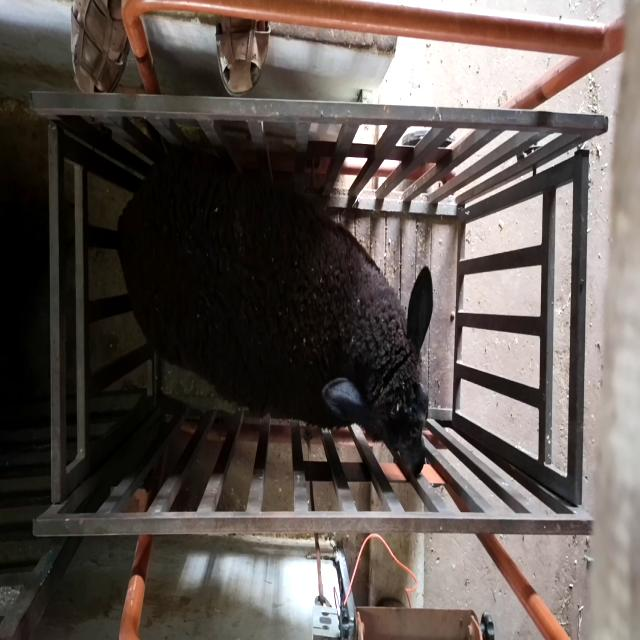sheep: (116, 148, 433, 475)
